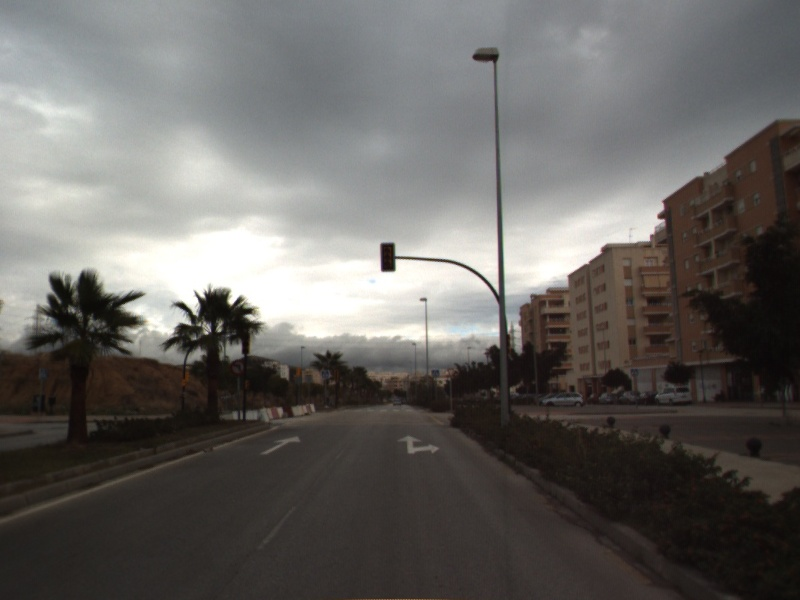STRAIGHT: (258, 434, 303, 456)
STRAIGHT_RIGHT: (395, 433, 442, 456)
